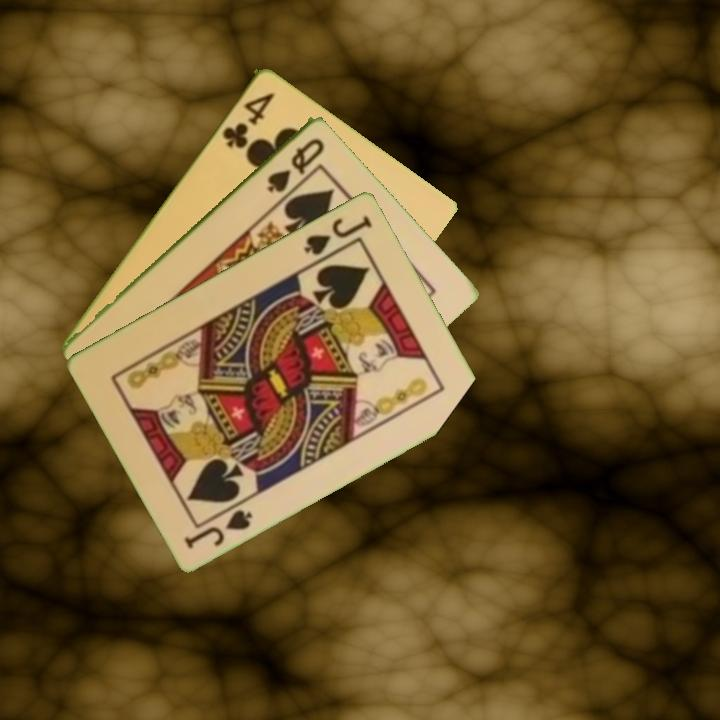4c: (218, 88, 278, 151)
Js: (180, 497, 256, 552), (300, 211, 376, 258)
Qs: (263, 134, 328, 195)
